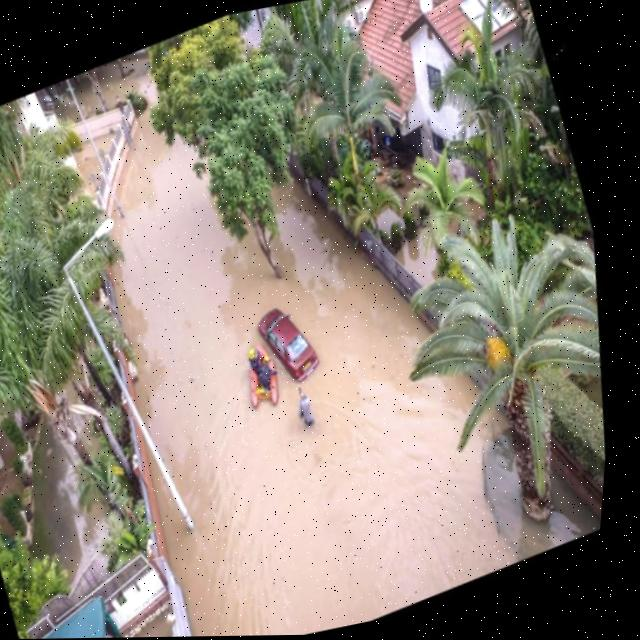civilian: (290, 388, 320, 434)
rescuer: (255, 348, 282, 386), (242, 344, 261, 374)
